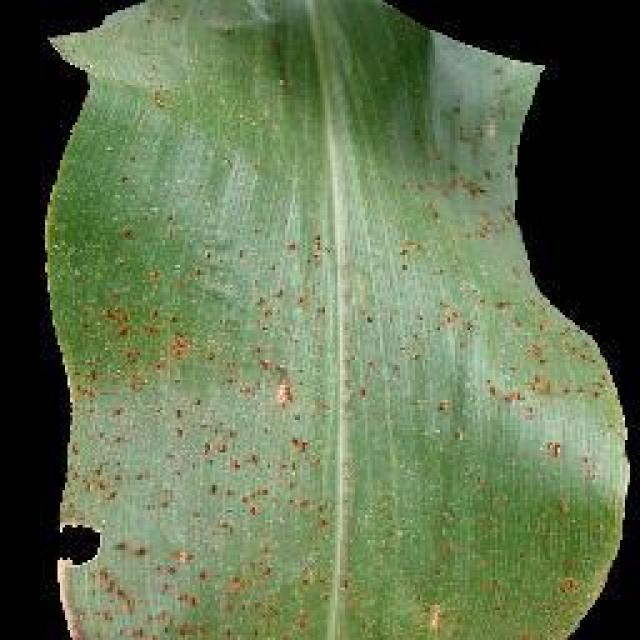Corn Common Rust: (95, 170, 540, 617)
